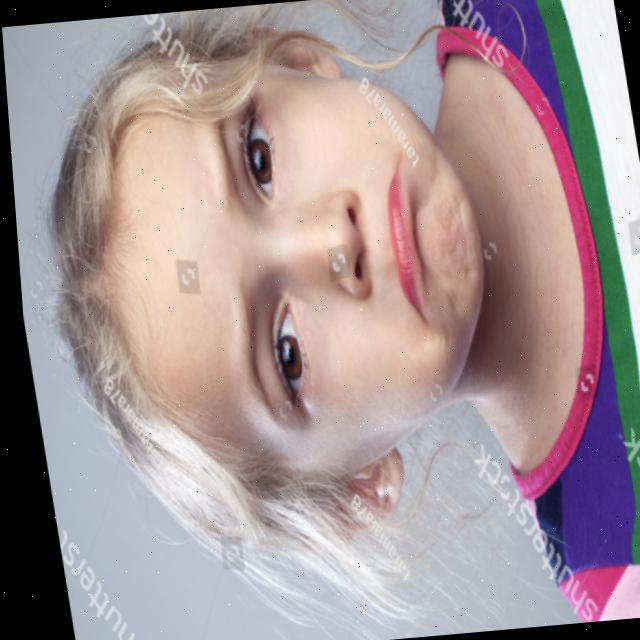sad: (60, 16, 531, 553)
